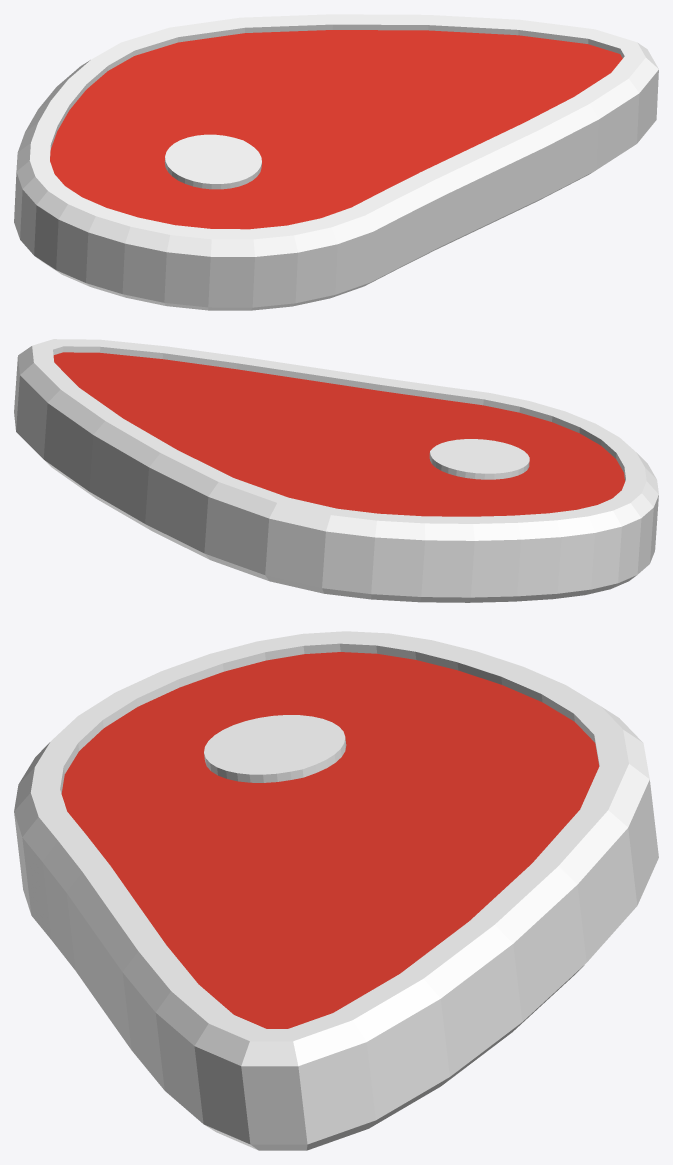
The model's file is Carne.fbx.
The picture shows the model from 3 angles, top to bottom: view 1: azimuth 30°, elevation 25°; view 2: azimuth 150°, elevation 25°; view 3: azimuth 270°, elevation 25°; orthographic projection. The views are drawn at different scales.
Visible parts, largest first — view 1: Cube.012; view 2: Cube.012; view 3: Cube.012.
Boxes of the visible parts, bbox=[...] form: Cube.012: bbox=[14, 14, 658, 310]; Cube.012: bbox=[14, 339, 658, 602]; Cube.012: bbox=[14, 631, 658, 1150].
Size of the model in its own units: 138 by 24.44 by 86.12.
